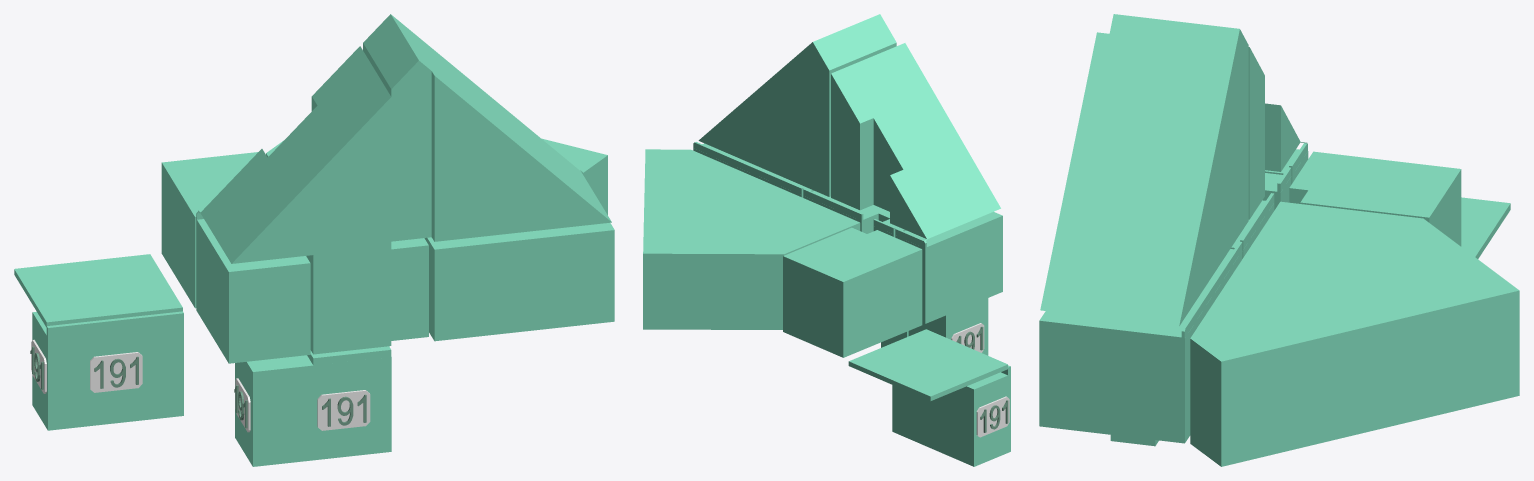
3 views of the same model, side by side, from view 1: azimuth 30°, elevation 25°; view 2: azimuth 150°, elevation 25°; view 3: azimuth 270°, elevation 25° (orthographic). The views are drawn at different scales.
Visible parts, largest first — view 1: g_2, g_6, g_3, g_1, g_9, g_4, g_13, g_12, g_11, g_10, g_0, g_8 (+3 smaller); view 2: g_5, g_3, g_10, g_2, g_9, g_1, g_13, g_4, g_0, g_7, g_6, g_25 (+1 smaller); view 3: g_5, g_2, g_6, g_10, g_3, g_13, g_7, g_9.
Boxes of the visible parts, x1,y1,x2,y2 form: g_2: [363, 14, 611, 241]; g_6: [424, 169, 614, 341]; g_3: [198, 46, 379, 263]; g_1: [32, 311, 183, 430]; g_9: [196, 210, 310, 363]; g_4: [303, 79, 391, 255]; g_13: [14, 254, 182, 327]; g_12: [289, 346, 391, 462]; g_11: [306, 247, 391, 354]; g_10: [161, 152, 257, 308]; g_0: [235, 357, 295, 466]; g_8: [391, 238, 428, 340]; g_5: [643, 149, 860, 329]; g_3: [831, 54, 1000, 241]; g_10: [783, 227, 922, 357]; g_2: [698, 14, 896, 196]; g_9: [895, 211, 1002, 323]; g_1: [892, 365, 1010, 466]; g_13: [848, 329, 1007, 401]; g_4: [879, 43, 951, 133]; g_0: [908, 298, 988, 355]; g_7: [803, 188, 905, 237]; g_6: [693, 142, 813, 197]; g_25: [976, 396, 1009, 437]; g_5: [1190, 201, 1519, 466]; g_2: [1040, 14, 1248, 326]; g_6: [1039, 241, 1242, 443]; g_10: [1289, 151, 1461, 246]; g_3: [1248, 47, 1306, 219]; g_13: [1461, 197, 1510, 258]; g_7: [1230, 167, 1291, 258]; g_9: [1265, 143, 1308, 184].
Bounding box in the file's own units: 13.8 × 10.1 × 9.92.
